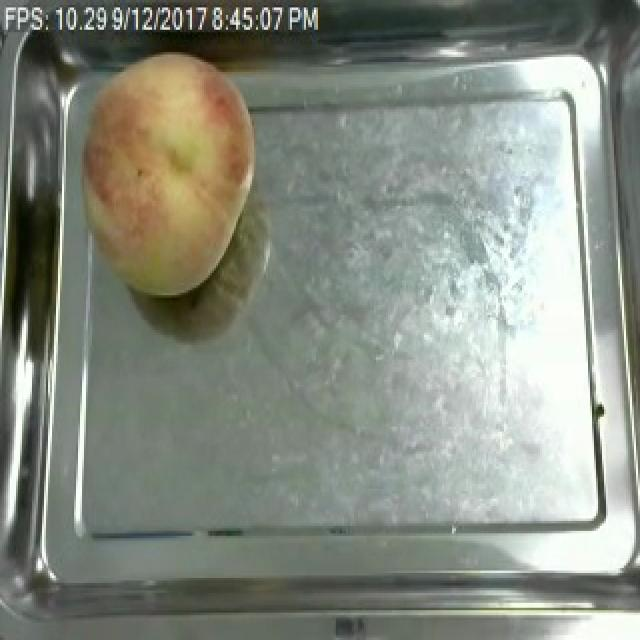Fruit: (60, 37, 268, 310)
